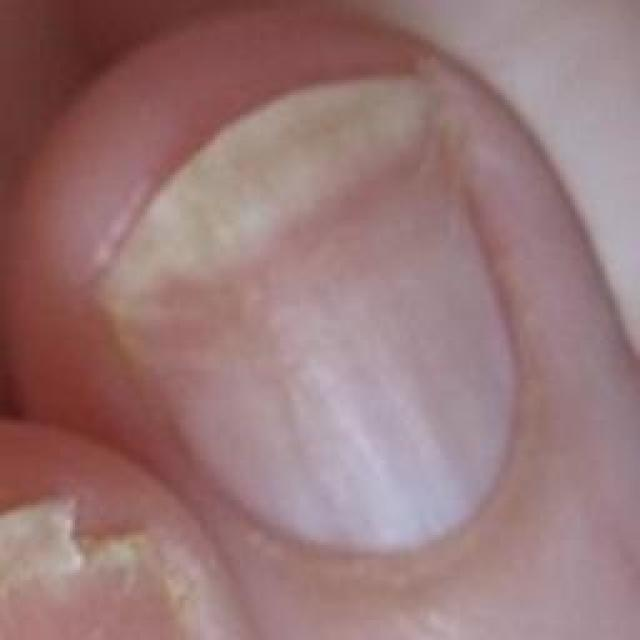Nail: (101, 77, 524, 552)
